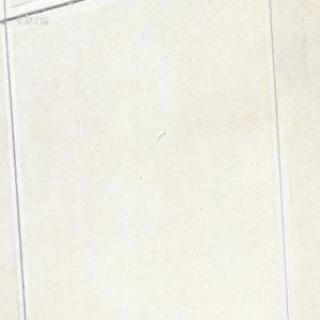Wrenchtrack_idkeyframe: (156, 129, 165, 139)
